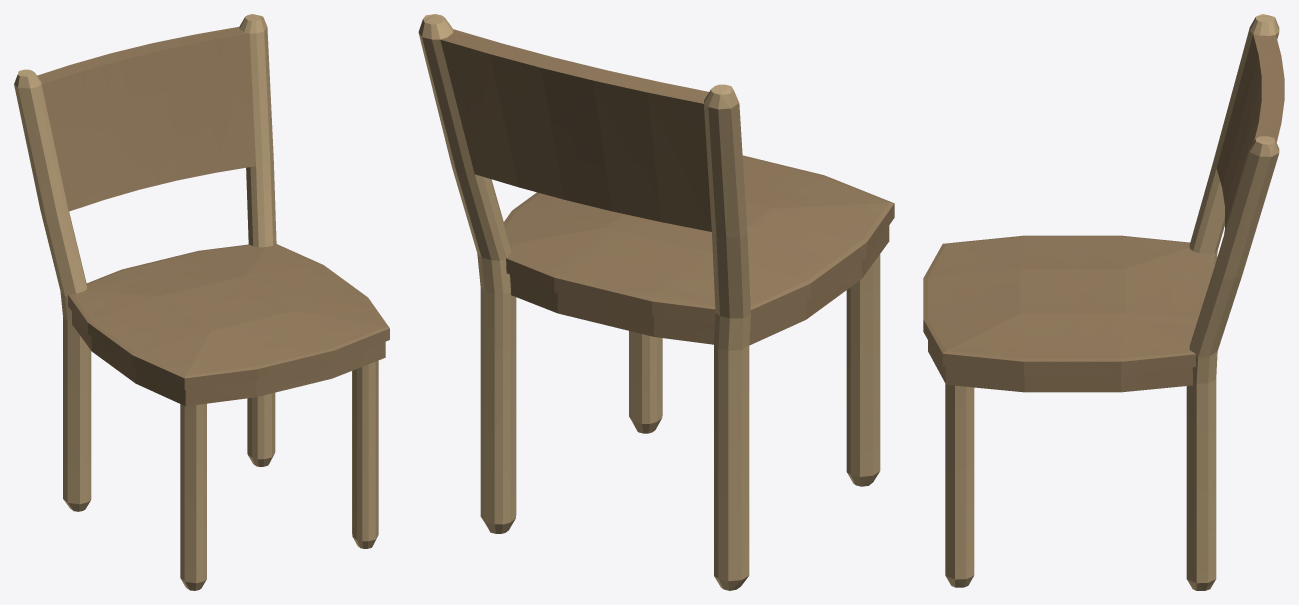
The model's file is chair.dae.
3 renders of one model, left to right at view 1: azimuth 30°, elevation 25°; view 2: azimuth 150°, elevation 25°; view 3: azimuth 270°, elevation 25°, orthographic. The views are drawn at different scales.
Visible parts, largest first — view 1: chair_1; view 2: chair_1; view 3: chair_1.
Part boxes in pixels (x1,y1,x2,y2): chair_1: [14, 14, 389, 590]; chair_1: [418, 14, 894, 590]; chair_1: [923, 14, 1284, 590].
Bounding box in the file's own units: 0.4699 × 0.5374 × 0.7549.
